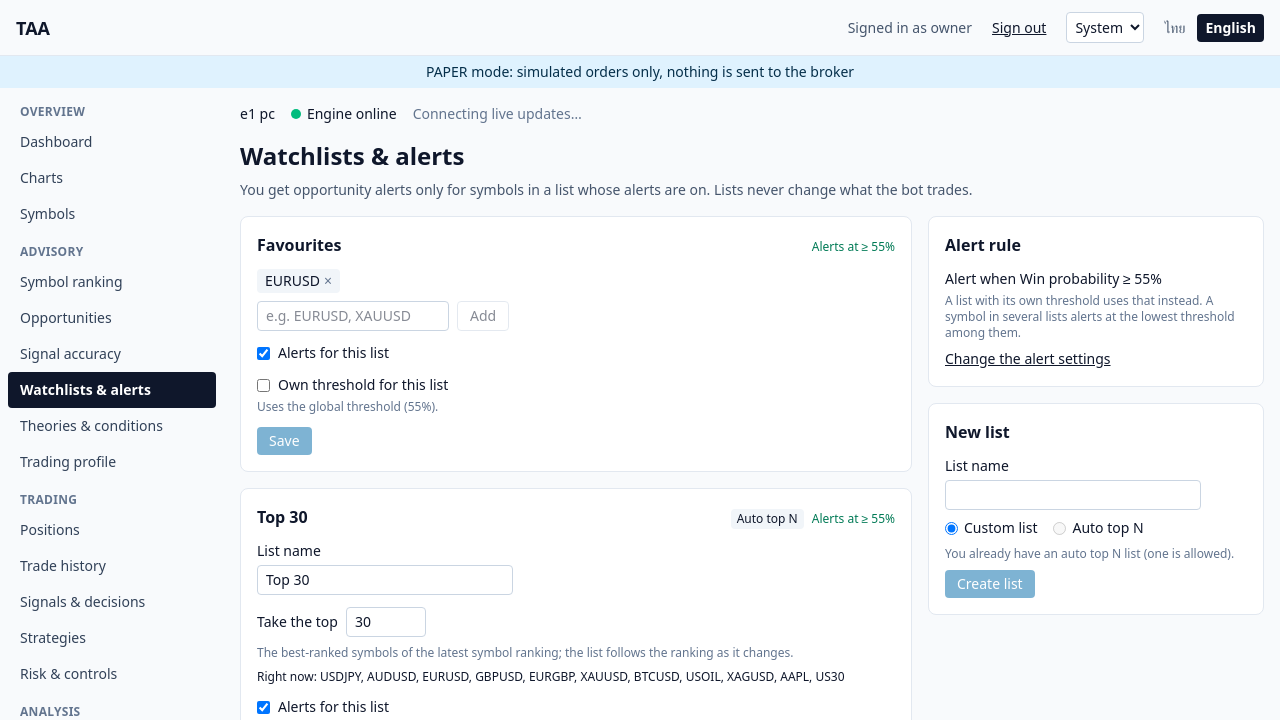
Test: watchlists page › explains the plan limit
The image size is (1280, 720).
Type "Metals" into the field labelled "List name" below "New list" at (1073, 495), box 945,480 -> 1201,510
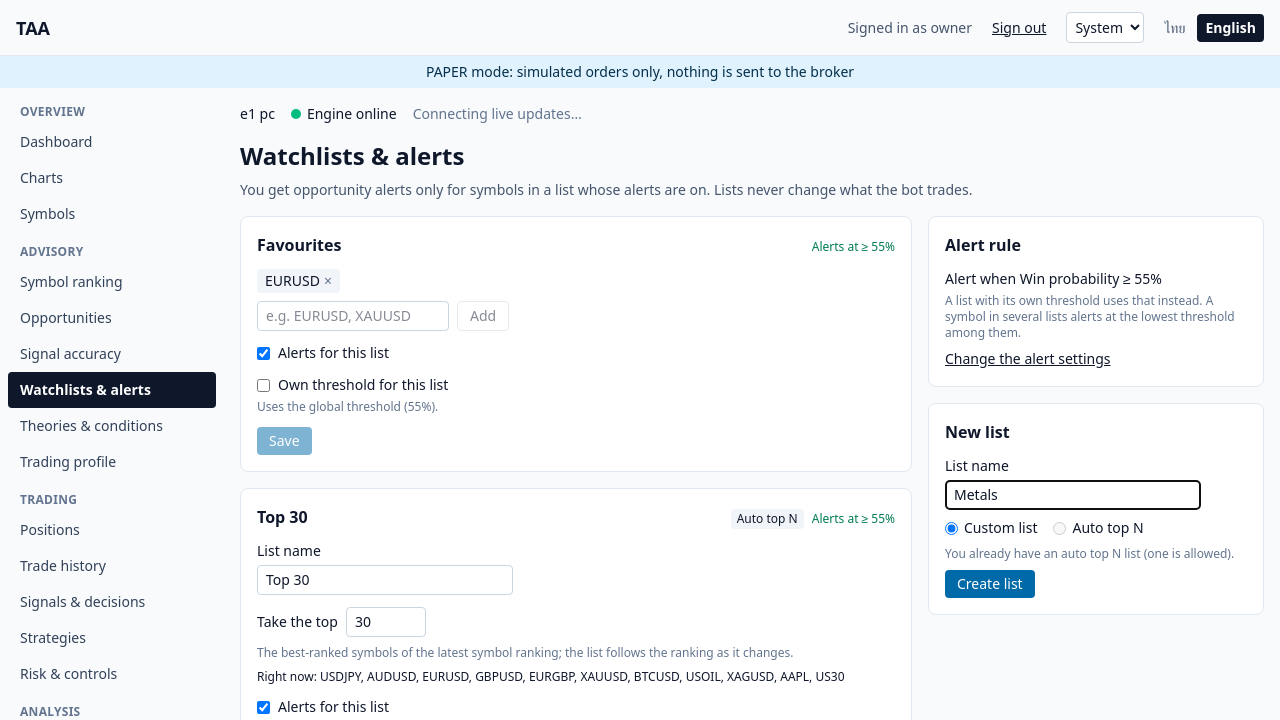
Click the button "Create list" at (990, 584), box 945,570 -> 1035,598
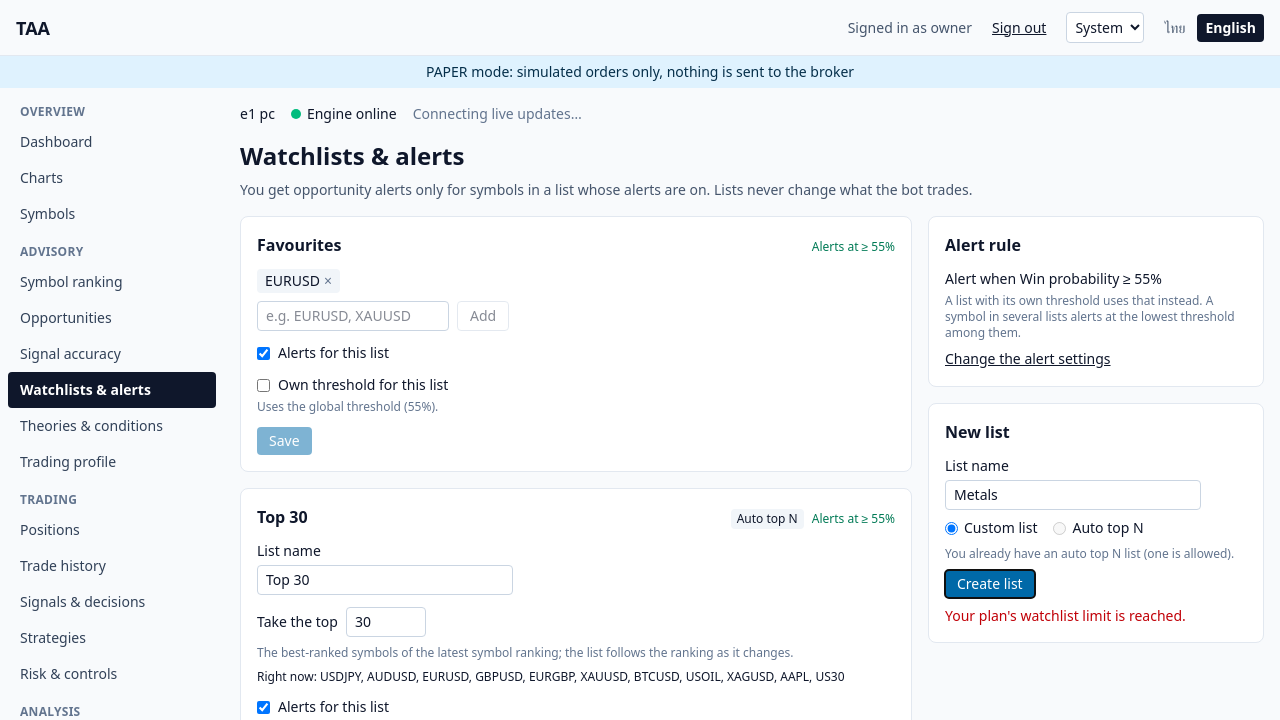
Expected: the message reads "Your plan's watchlist limit is reached.", 945,606 -> 1186,625
